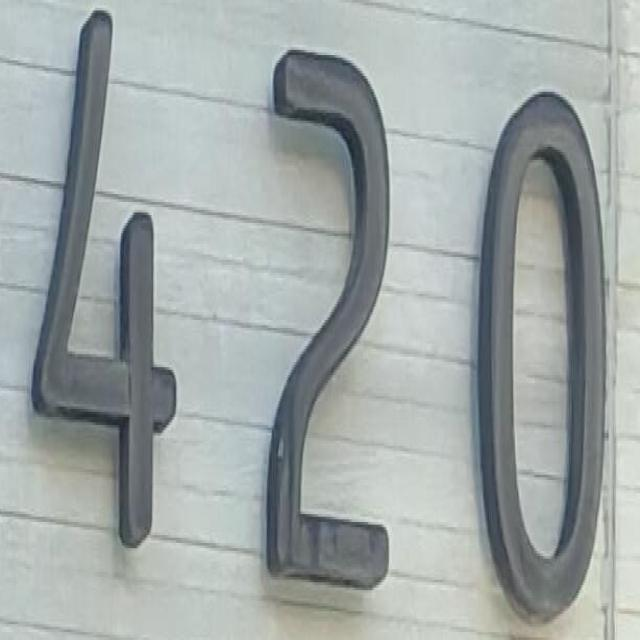character: (28, 5, 184, 570), (268, 34, 396, 602), (478, 84, 610, 628)
